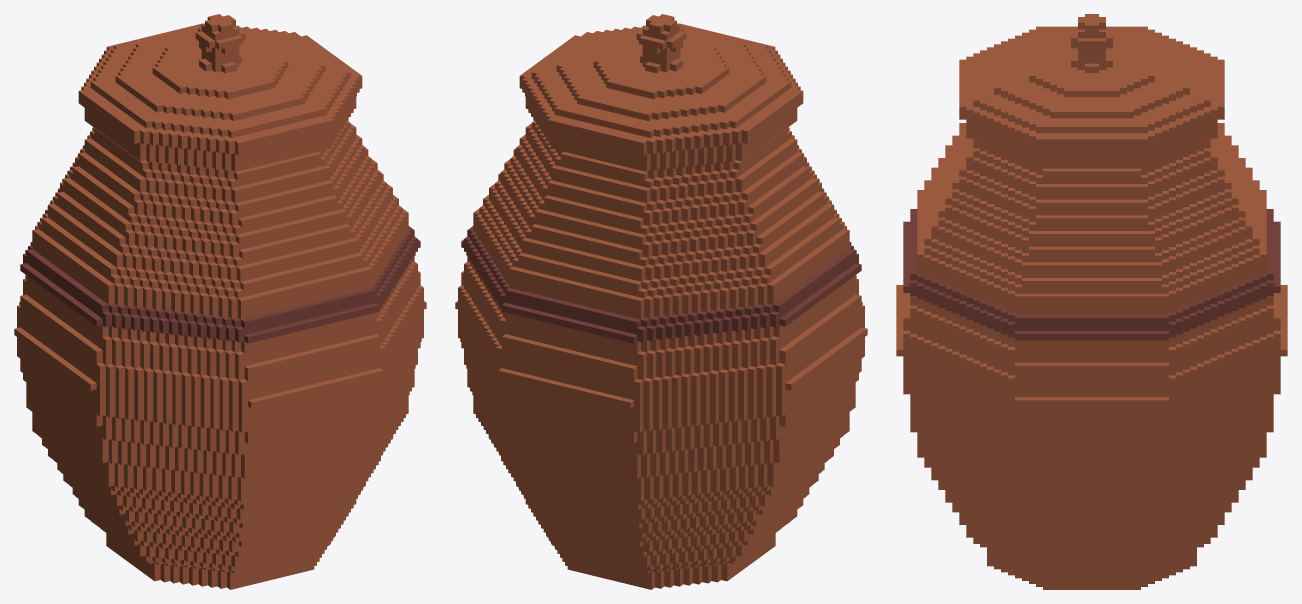
The model's file is clay_urn.glb.
3 renders of one model, left to right at view 1: azimuth 30°, elevation 25°; view 2: azimuth 150°, elevation 25°; view 3: azimuth 270°, elevation 25°, orthographic.
Parts seen in each view (by area): view 1: clay_urn:compound; view 2: clay_urn:compound; view 3: clay_urn:compound.
Boxes of the visible parts, left/top/right/bottom form: clay_urn:compound: left=14, top=14, right=426, bottom=589; clay_urn:compound: left=455, top=14, right=867, bottom=589; clay_urn:compound: left=896, top=14, right=1287, bottom=589.
Bounding box in the file's own units: 0.224 × 0.332 × 0.224.
